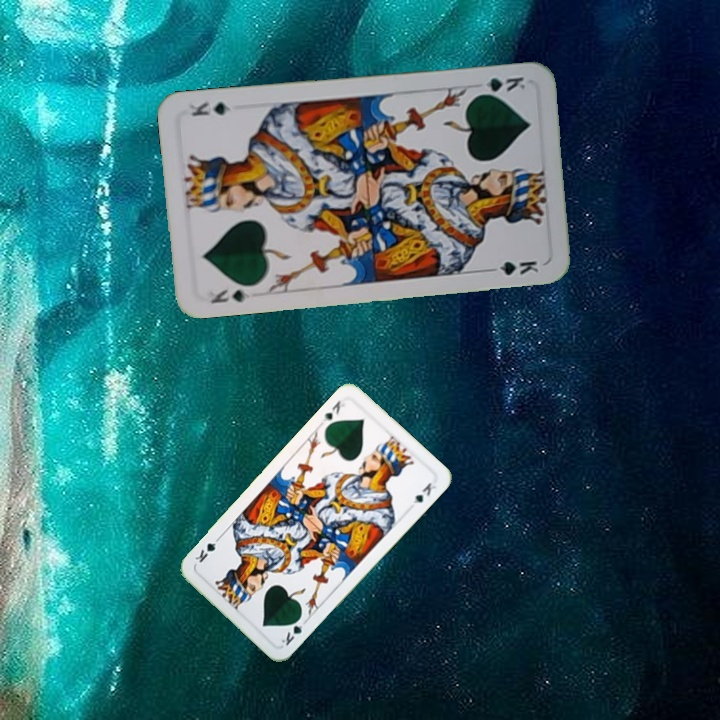GK: (471, 72, 528, 98), (277, 612, 310, 649), (206, 285, 252, 306), (319, 396, 348, 425)
